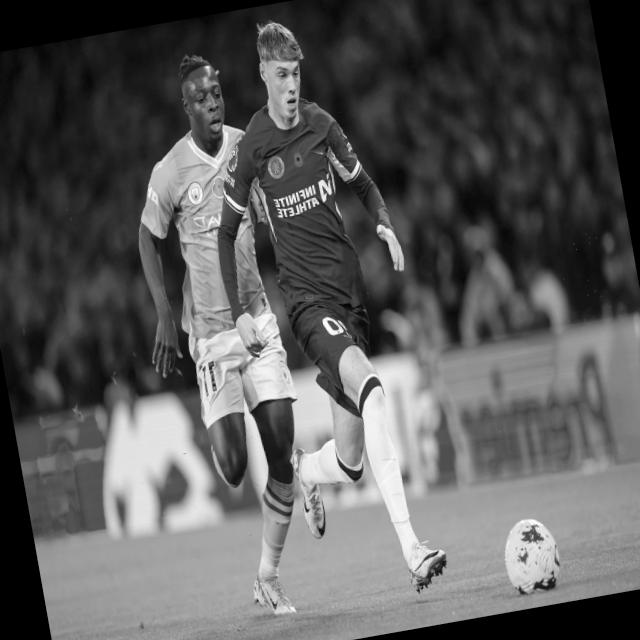football: (502, 518, 561, 596)
